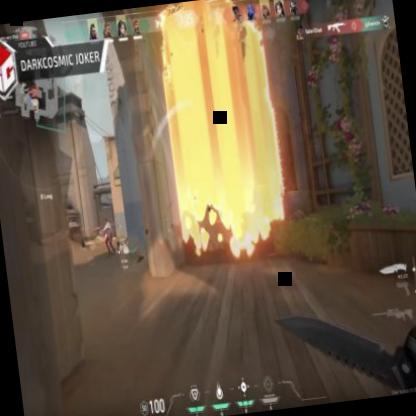enemy: (101, 216, 115, 256)
enemy_head: (102, 216, 107, 224)
